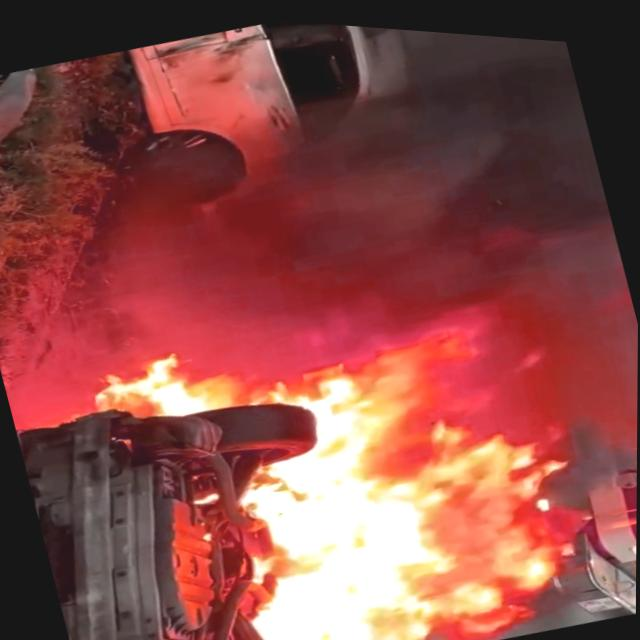fire: (103, 273, 554, 640)
smoke: (88, 159, 427, 373), (380, 22, 624, 298)
